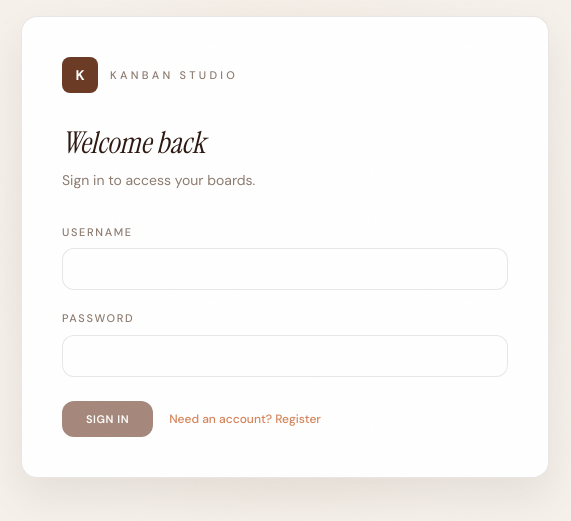
Home auth flow › shows registration form when toggled
Click the button "Need an account? Register": {"x": 245, "y": 419} [169, 410, 321, 428]
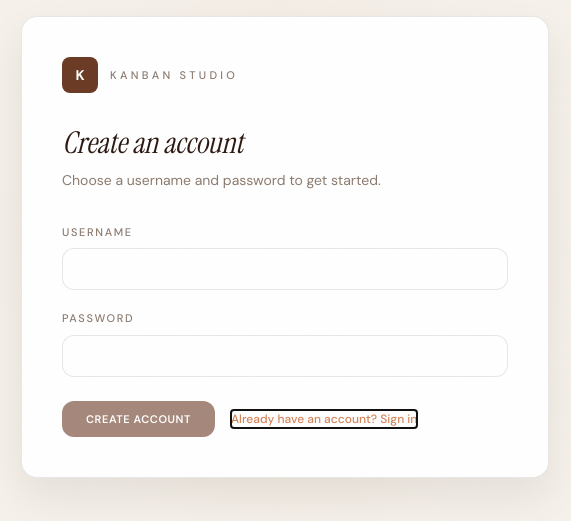
Now the heading "Create an account" is shown, box [62, 123, 243, 162]
Now the button "Create account" is shown, box [62, 401, 215, 437]
